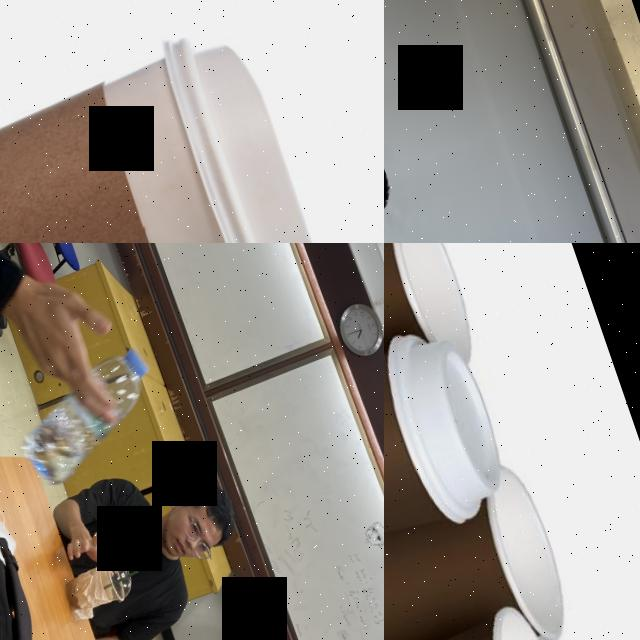cup: (0, 9, 340, 243), (384, 312, 521, 605), (384, 451, 588, 640), (384, 243, 483, 445), (58, 550, 140, 625)
